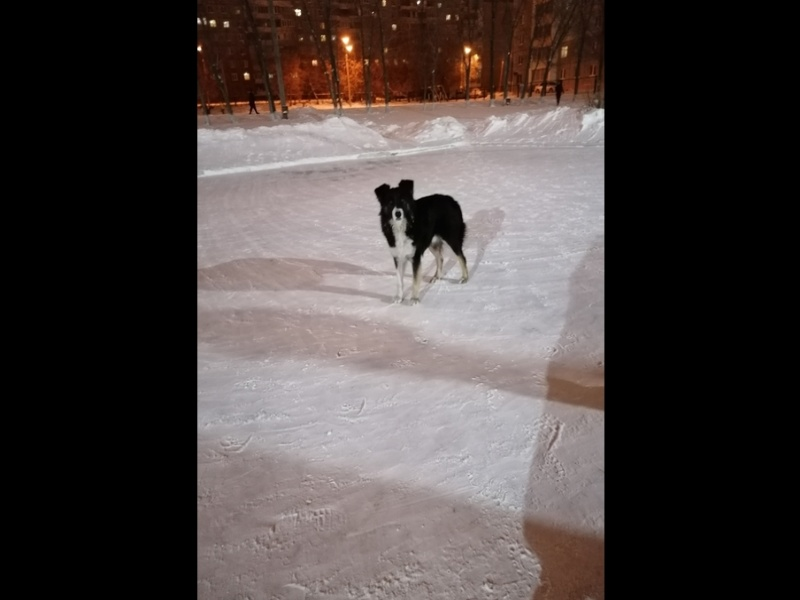dog: (373, 173, 478, 308)
